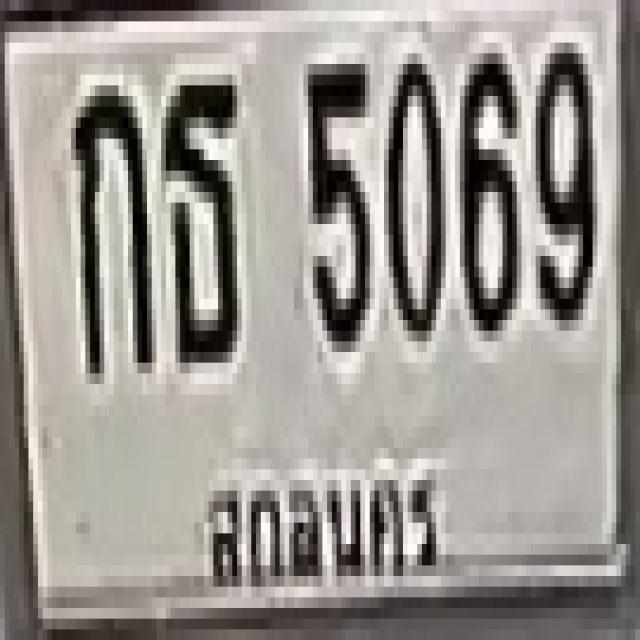0: (384, 42, 441, 330)
5: (303, 54, 365, 342)
6: (458, 43, 514, 320)
9: (531, 32, 588, 320)
A01: (71, 75, 147, 373)
A24: (161, 75, 232, 352)
SNK: (191, 424, 448, 609)
